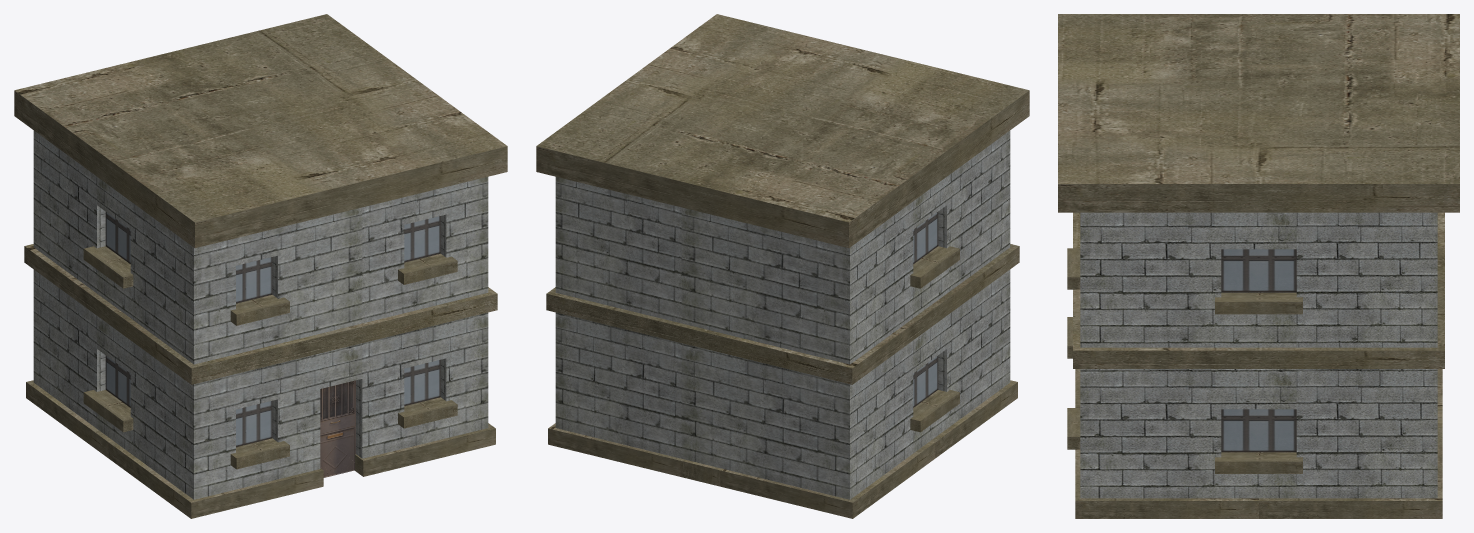
The model's file is Building02C2.fbx.
3 views of the same model, side by side, from view 1: azimuth 30°, elevation 25°; view 2: azimuth 150°, elevation 25°; view 3: azimuth 270°, elevation 25° (orthographic). The views are drawn at different scales.
Parts seen in each view (by area): view 1: UB; view 2: UB; view 3: UB.
Boxes of the visible parts, x1,y1,x2,y2 form: UB: (14, 14, 507, 518); UB: (536, 14, 1029, 518); UB: (1058, 14, 1459, 518).
Size of the model in its own units: 3.22 by 2.97 by 3.21.
